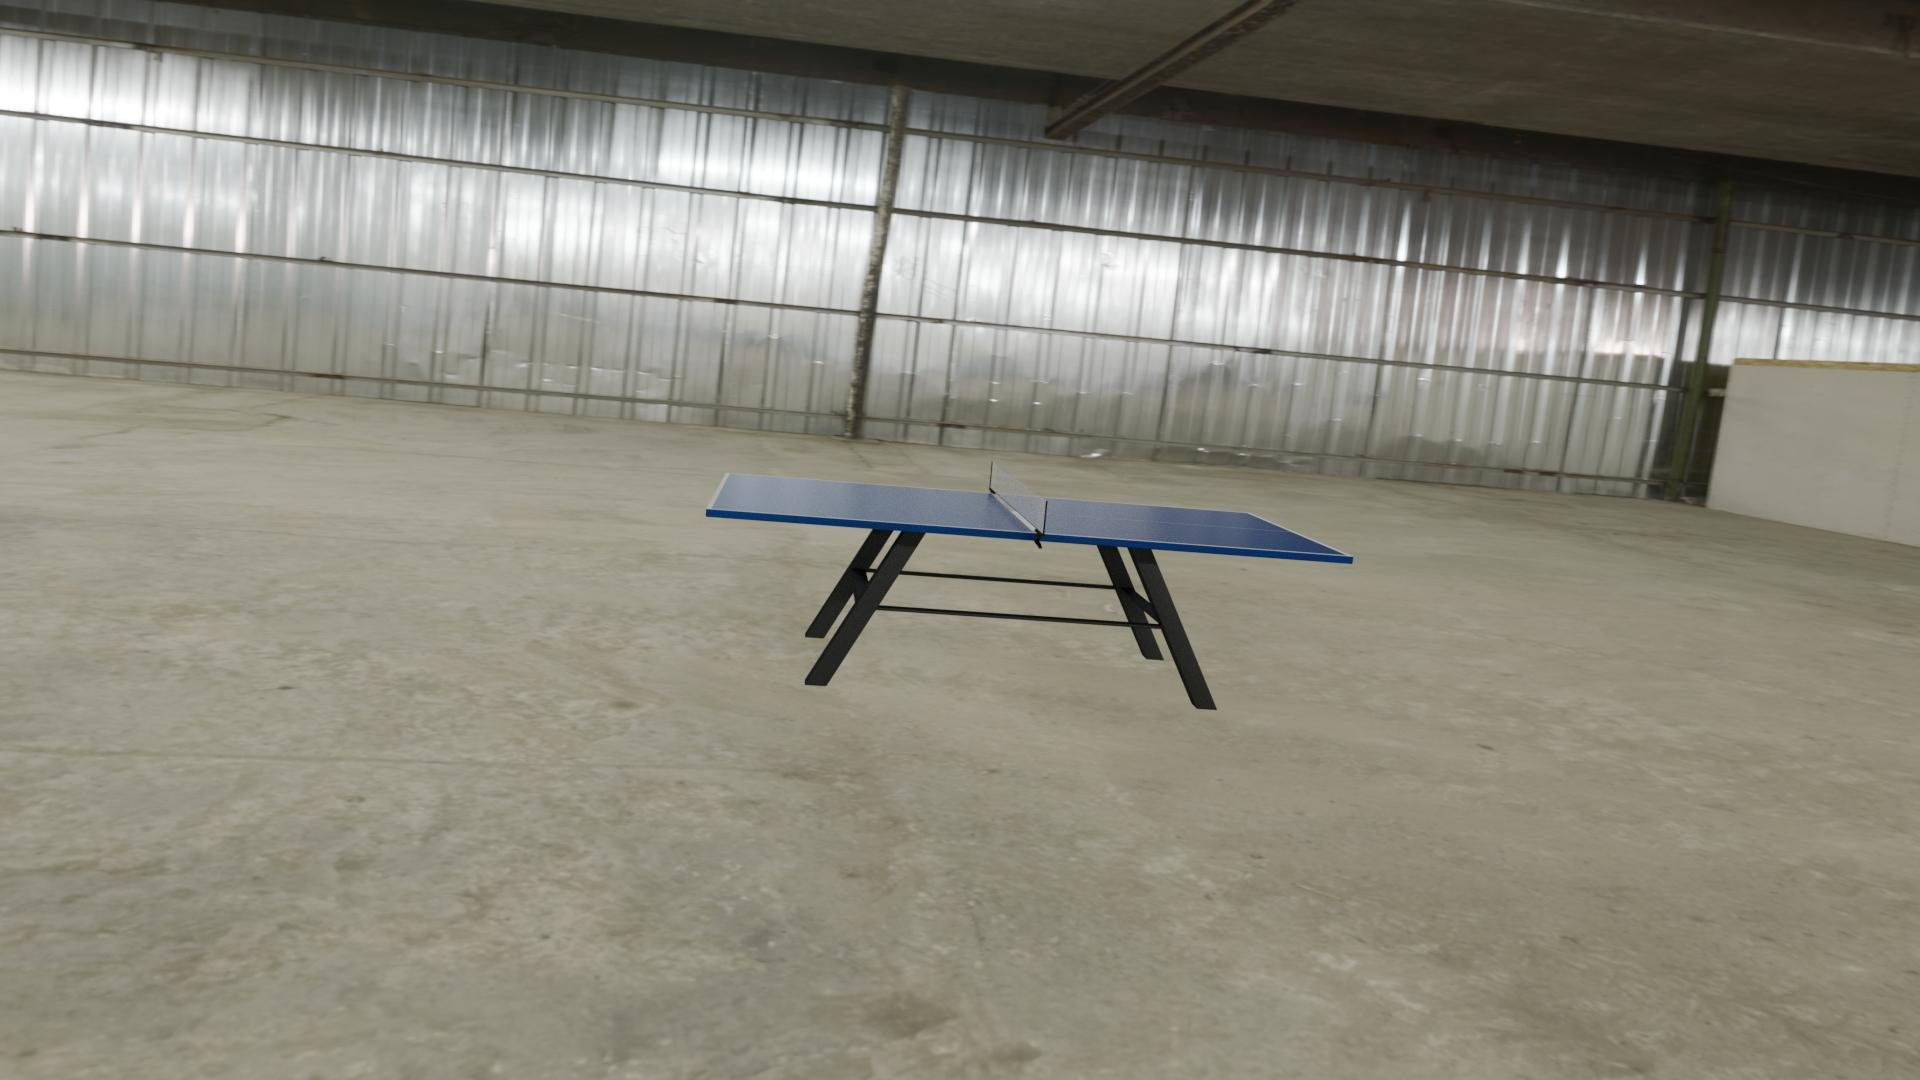table: (711, 473, 1348, 555)
